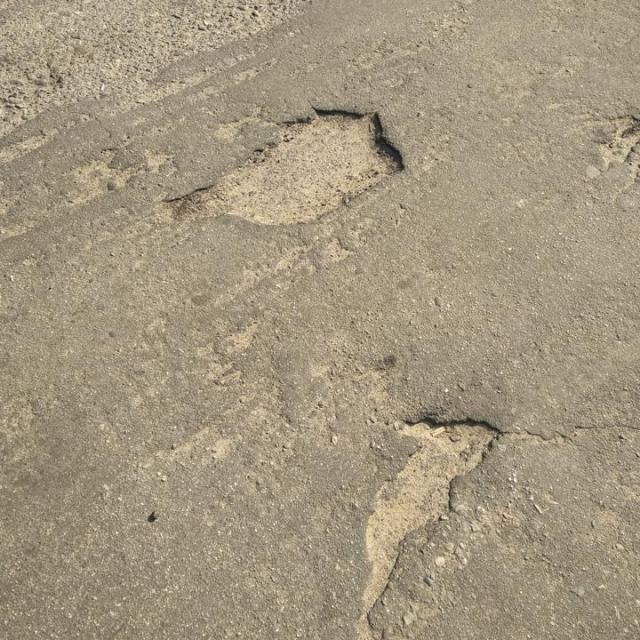Pothole: (351, 414, 504, 640), (158, 102, 414, 234), (590, 113, 640, 184)
